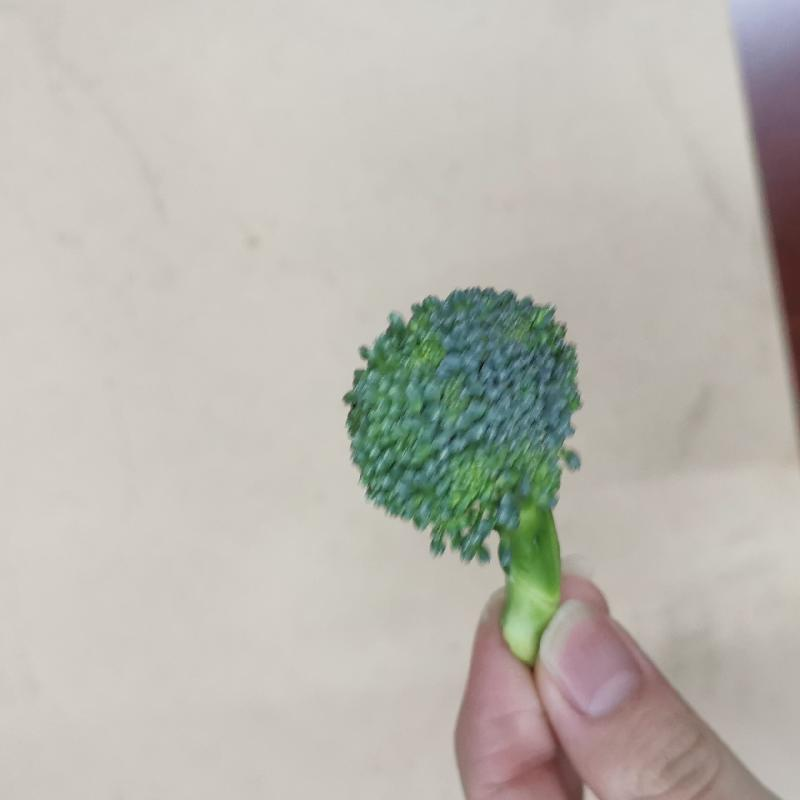broccoli: (333, 285, 600, 668)
